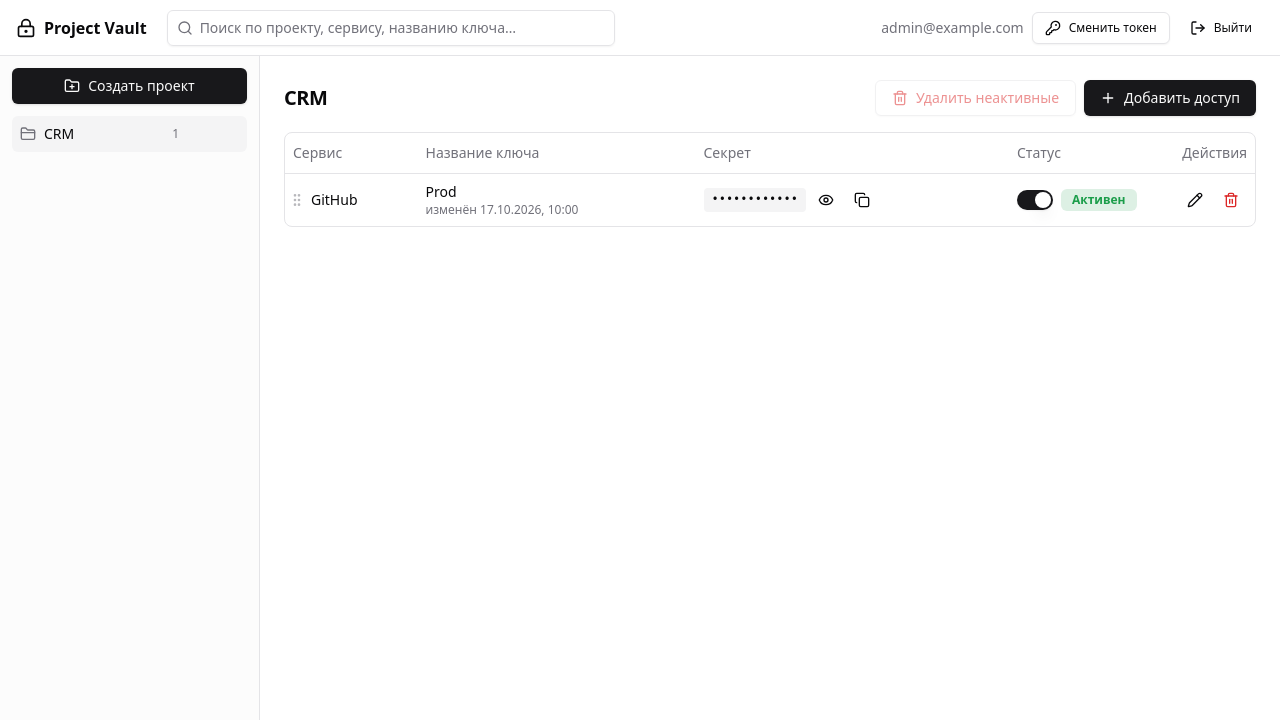
Test: dashboard › keeps the previous secret when the edit form leaves it empty
Check: the button "Создать проект" is shown, box left=12, top=68, right=247, bottom=104
Click the button named "Изменить Prod" at [1195, 200], box left=1179, top=184, right=1211, bottom=216
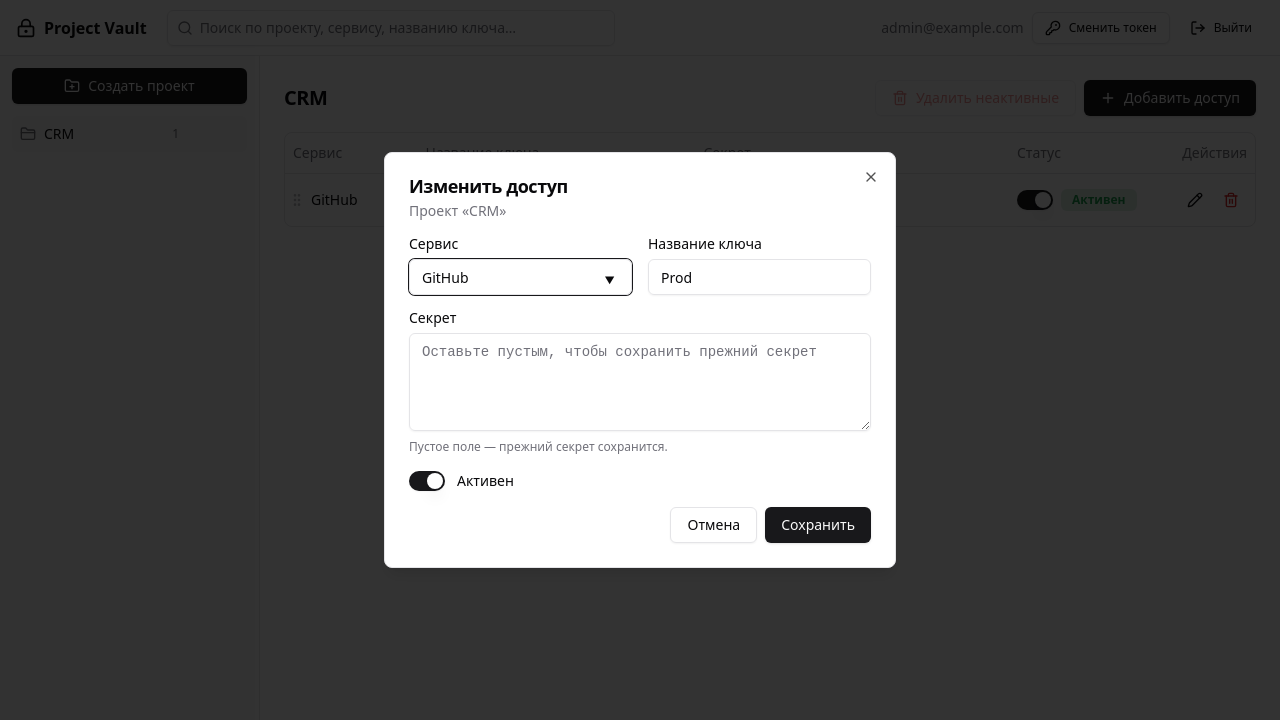
Replace the text in the field labelled "Название ключа" with "Production" at [760, 277], box left=648, top=259, right=871, bottom=295
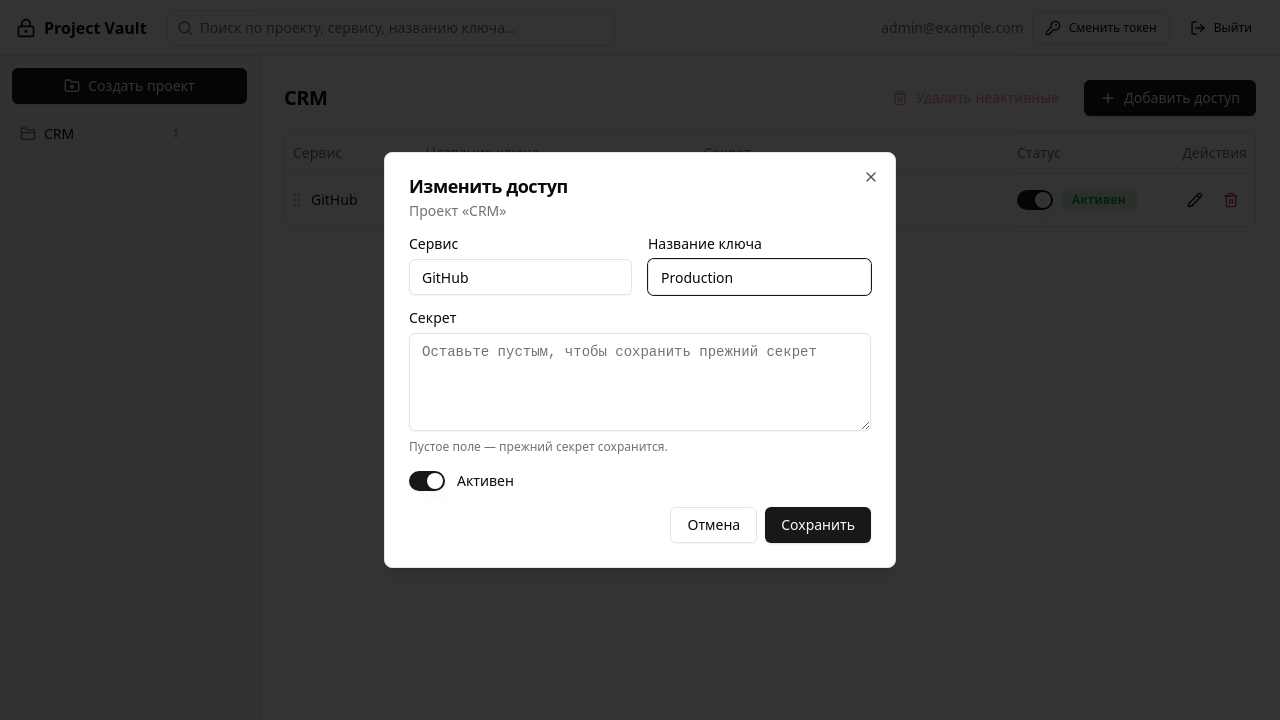
Check: the text box labelled "Секрет" is empty, box left=409, top=333, right=871, bottom=431
Click the button "Сохранить" at [818, 525], box left=765, top=507, right=871, bottom=543
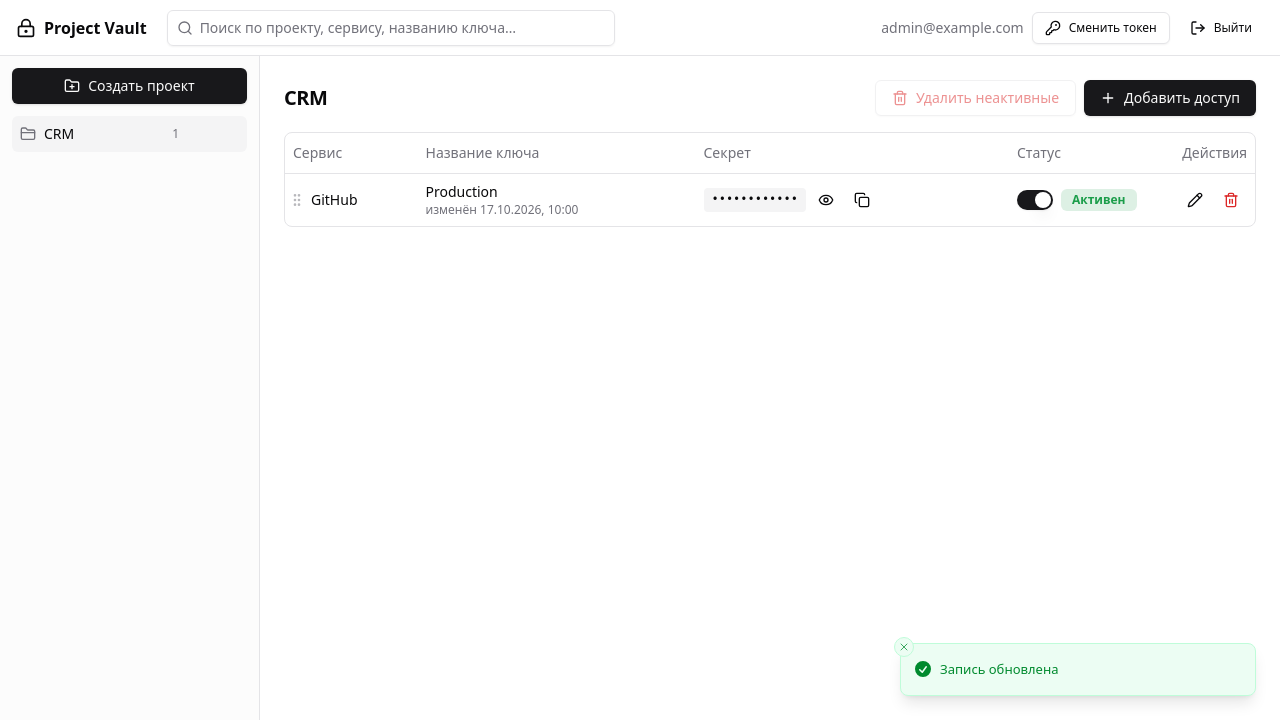
Check: the text "Production" is shown, box left=426, top=182, right=498, bottom=200
